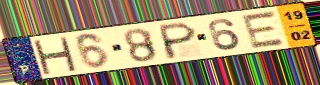6: (74, 32, 111, 70), (207, 18, 242, 51)
8: (122, 27, 160, 63)
E: (240, 9, 288, 50)
H: (31, 36, 79, 75)
P: (159, 20, 199, 61)
